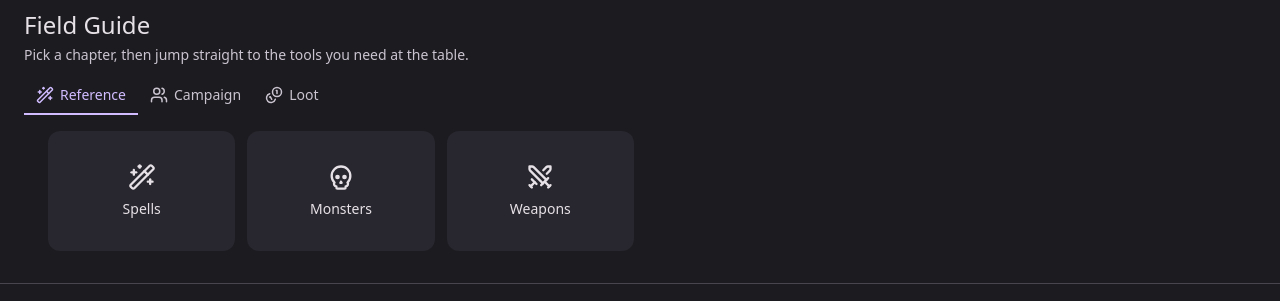
Test: HomePage › switches chapters when a tab is selected
The width and height of the screenshot is (1280, 301).
Click the tab "Loot". click: (292, 96)
box: [253,77,330,115]
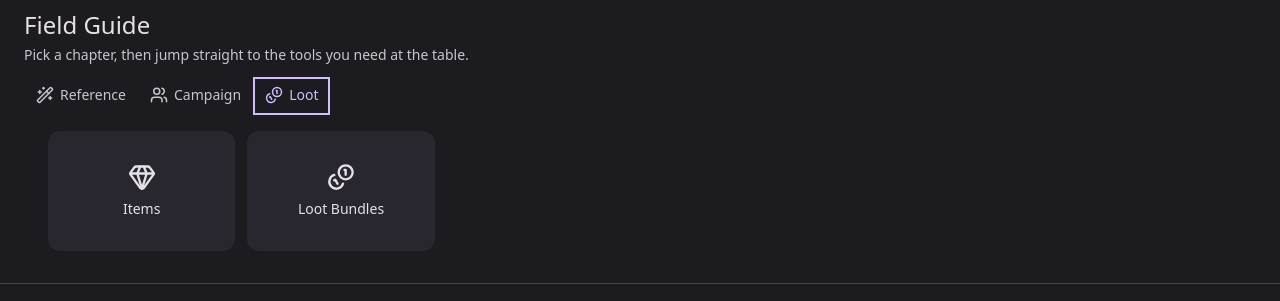
Expected: the link "Spells" is gone
